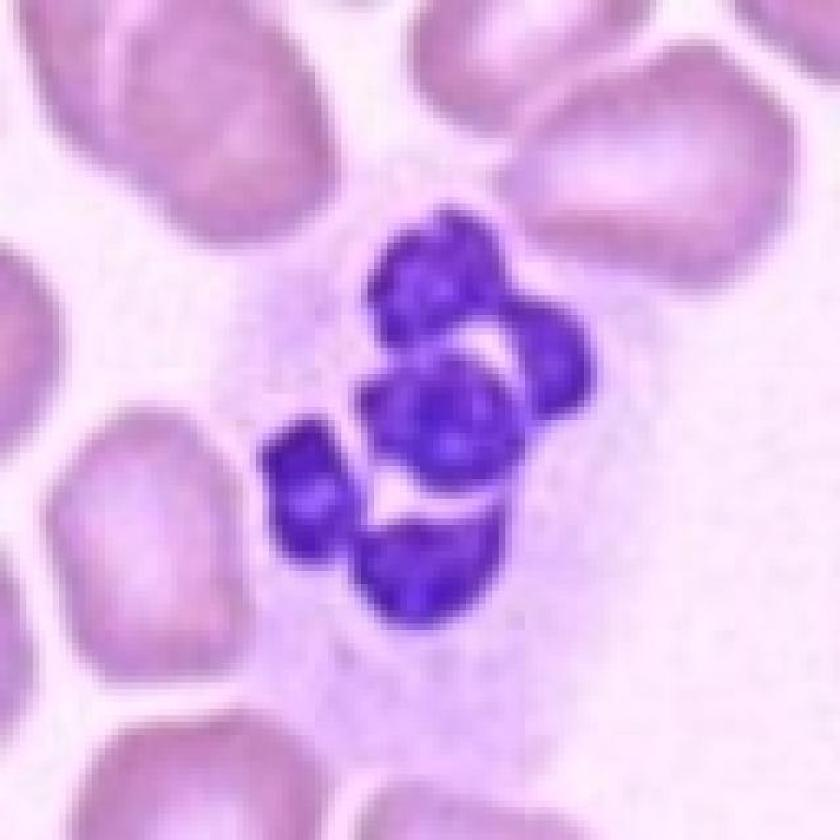neutrophil: (101, 157, 758, 715)
